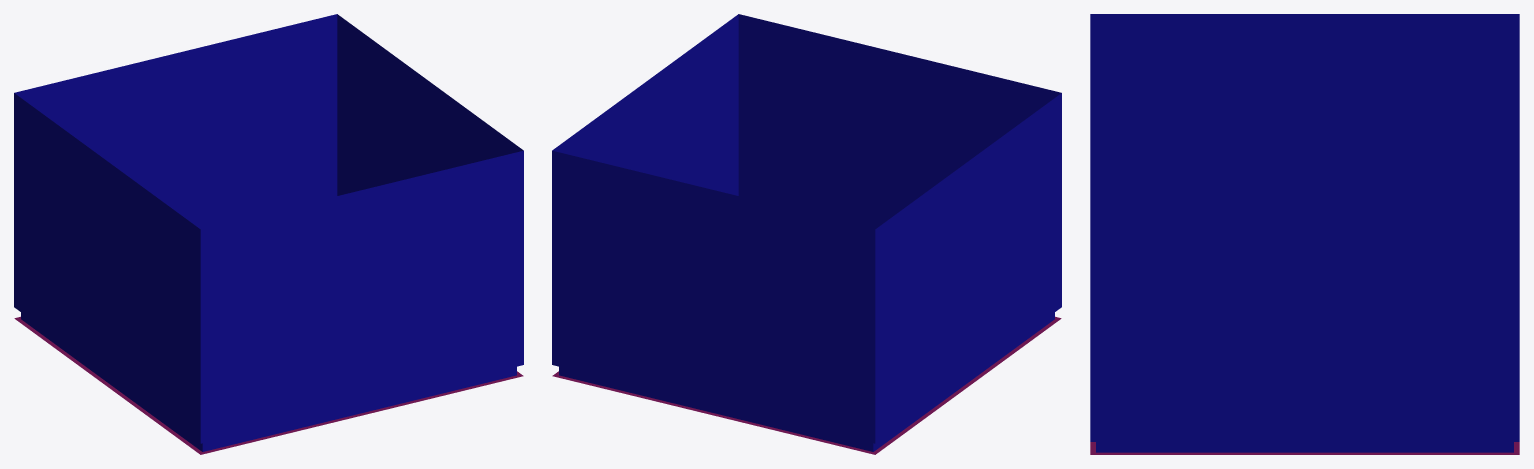
Rendered from HUB room 3.fbx.
3 renders of one model, left to right at view 1: azimuth 30°, elevation 25°; view 2: azimuth 150°, elevation 25°; view 3: azimuth 270°, elevation 25°, orthographic. The views are drawn at different scales.
Parts seen in each view (by area): view 1: Floor, Floor001; view 2: Floor, Floor001; view 3: Floor, Floor001.
Part boxes in pixels (left/top/right/bottom): Floor: left=14, top=14, right=523, bottom=451; Floor001: left=14, top=316, right=523, bottom=454; Floor: left=552, top=14, right=1061, bottom=451; Floor001: left=552, top=316, right=1061, bottom=454; Floor: left=1090, top=14, right=1519, bottom=452; Floor001: left=1090, top=442, right=1519, bottom=454.
Bounding box in the file's own units: 295 × 295 × 197.
